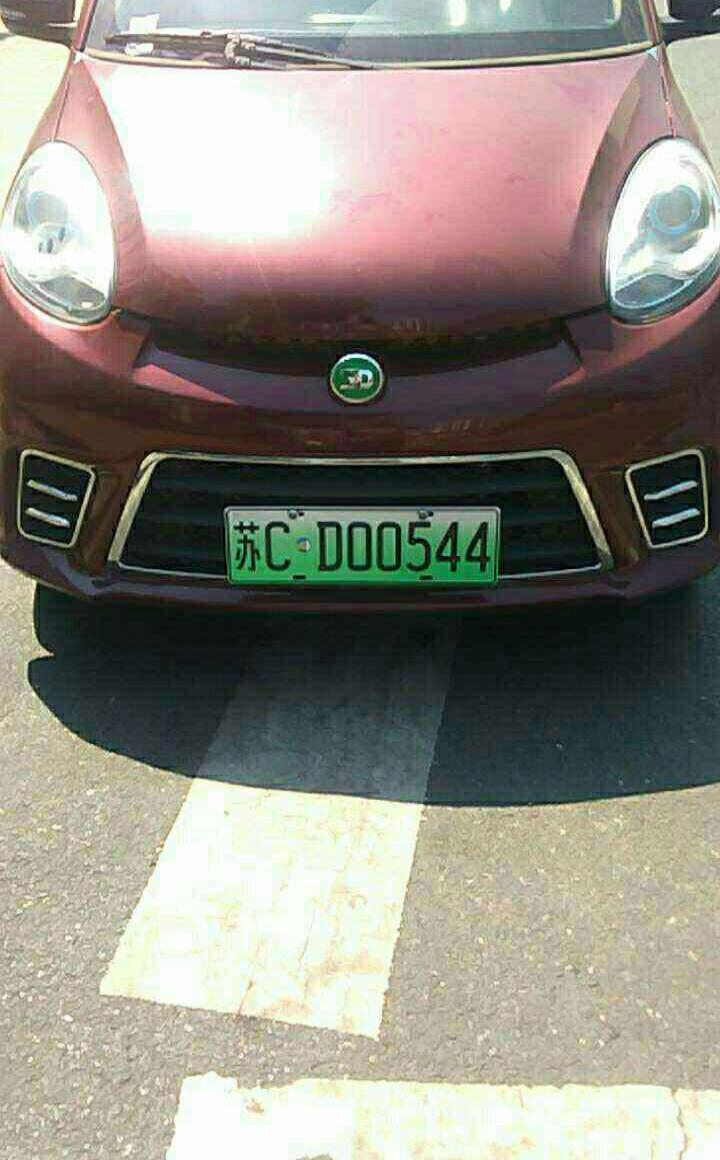car_id: (230, 509, 494, 586)
